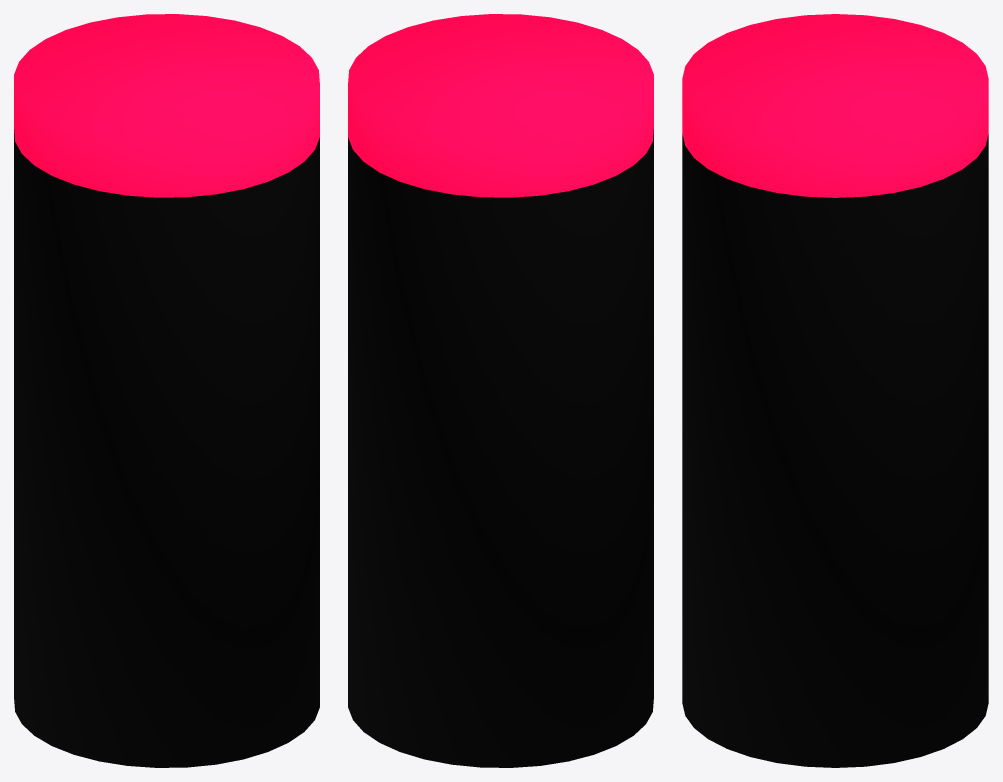
File: Bullet0.fbx
The picture shows the model from 3 angles, left to right: view 1: azimuth 30°, elevation 25°; view 2: azimuth 150°, elevation 25°; view 3: azimuth 270°, elevation 25°; orthographic projection.
Visible parts, largest first — view 1: Cylinder; view 2: Cylinder; view 3: Cylinder.
Part boxes in pixels (box(x1,y1,x2,y2)): Cylinder: box(14, 14, 319, 767); Cylinder: box(348, 14, 653, 767); Cylinder: box(682, 14, 988, 767).
Bounding box in the file's own units: 0.4 × 0.9 × 0.4.
